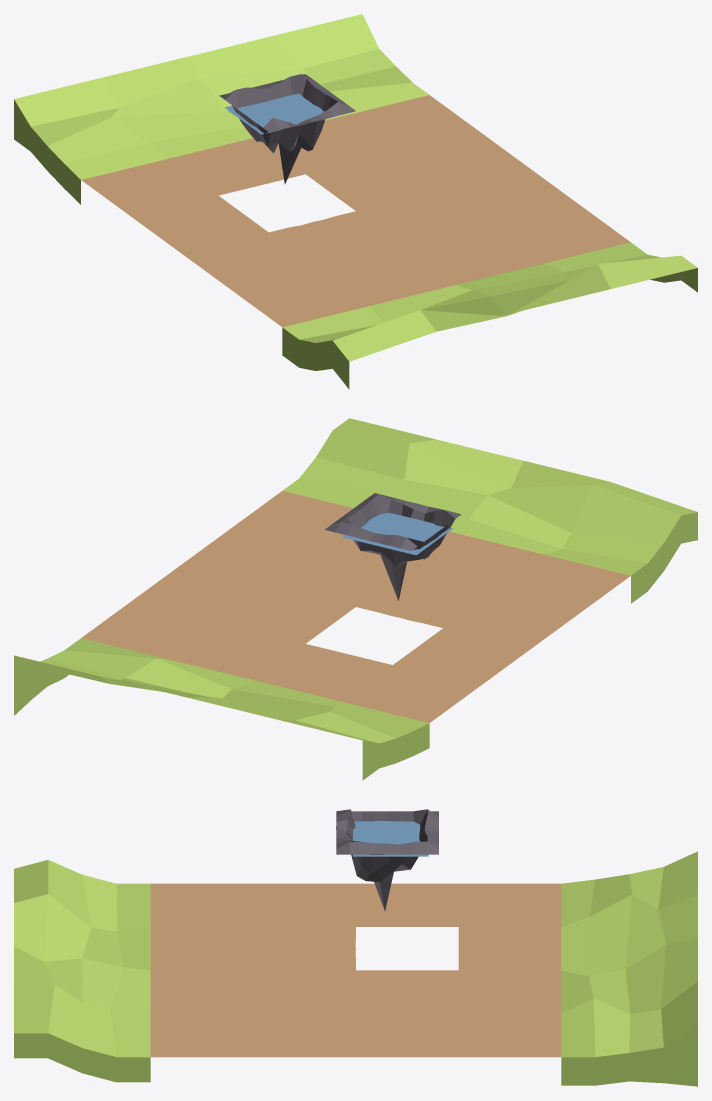
The model's file is road__pit.fbx.
3 views of the same model, one above another, from view 1: azimuth 30°, elevation 25°; view 2: azimuth 150°, elevation 25°; view 3: azimuth 270°, elevation 25° (orthographic).
Visible parts, largest first — view 1: Plane, Plane.002, Plane.001; view 2: Plane, Plane.002, Plane.001; view 3: Plane, Plane.002, Plane.001.
Boxes of the visible parts, x1,y1,x2,y2 form: Plane: (81, 95, 630, 327); Plane.002: (14, 14, 697, 389); Plane.001: (219, 74, 355, 183); Plane: (81, 491, 630, 722); Plane.002: (14, 418, 697, 780); Plane.001: (324, 493, 461, 600); Plane: (150, 883, 561, 1057); Plane.002: (14, 851, 697, 1086); Plane.001: (336, 809, 438, 910).
Size of the model in its own units: 600 by 239 by 1000.
3 materials, 3 textured.
